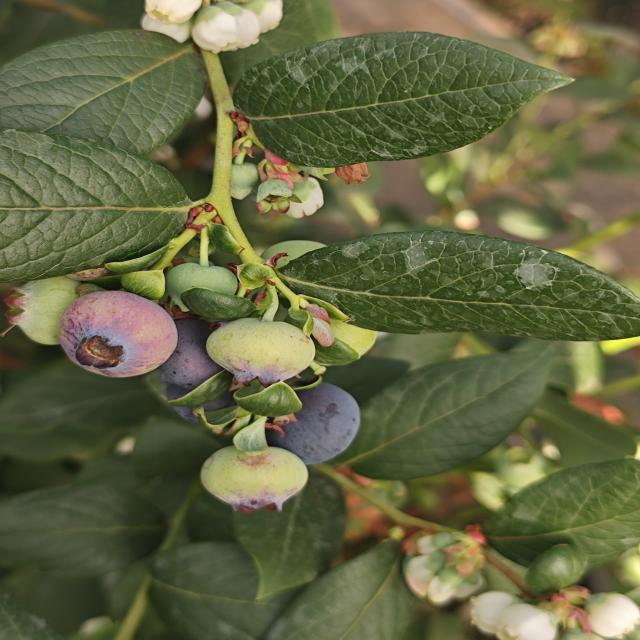ripe: (261, 380, 363, 467), (150, 311, 247, 392), (158, 366, 240, 423)
